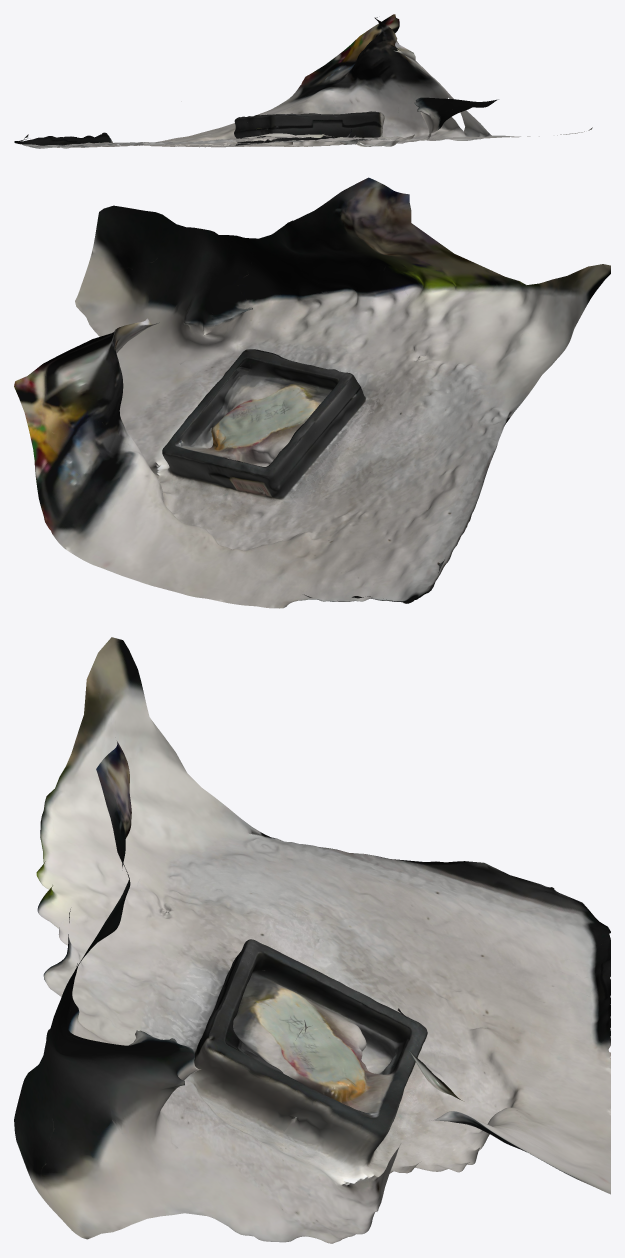
3 renders of one model, top to bottom at view 1: azimuth 30°, elevation 25°; view 2: azimuth 150°, elevation 25°; view 3: azimuth 270°, elevation 25°, orthographic. The views are drawn at different scales.
Bounding box in the file's own units: 2.68 × 1.28 × 1.86.
Materials: 1 (1 with a texture image).
